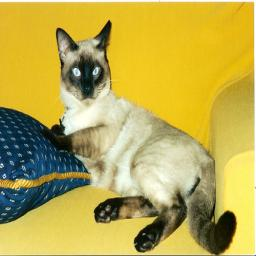catnose: (80, 82, 94, 96)
